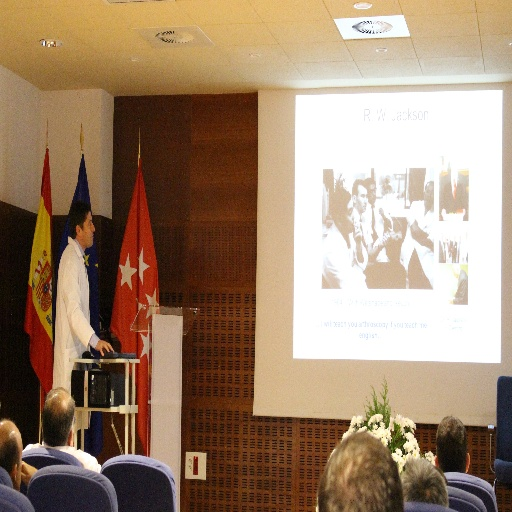hand: (19, 459, 38, 491), (93, 336, 112, 354)
